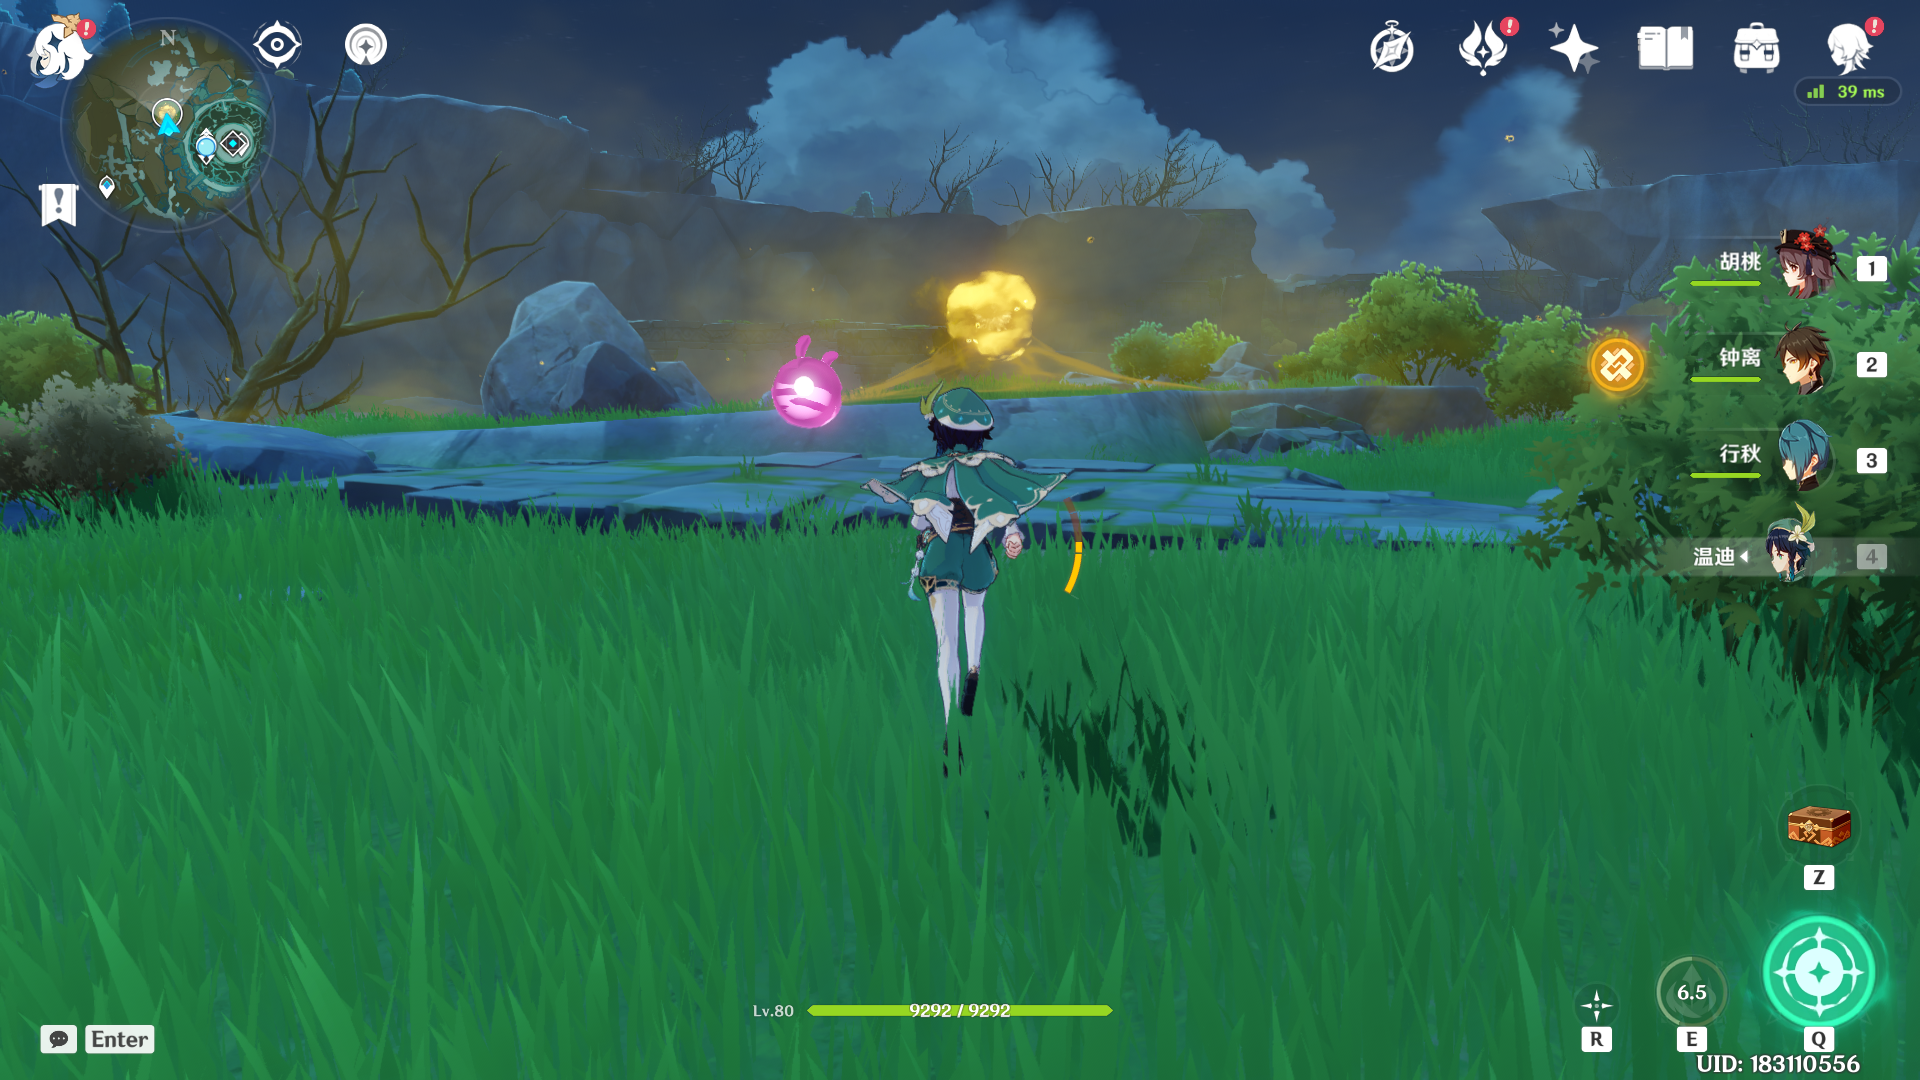character: (851, 388, 1095, 781)
